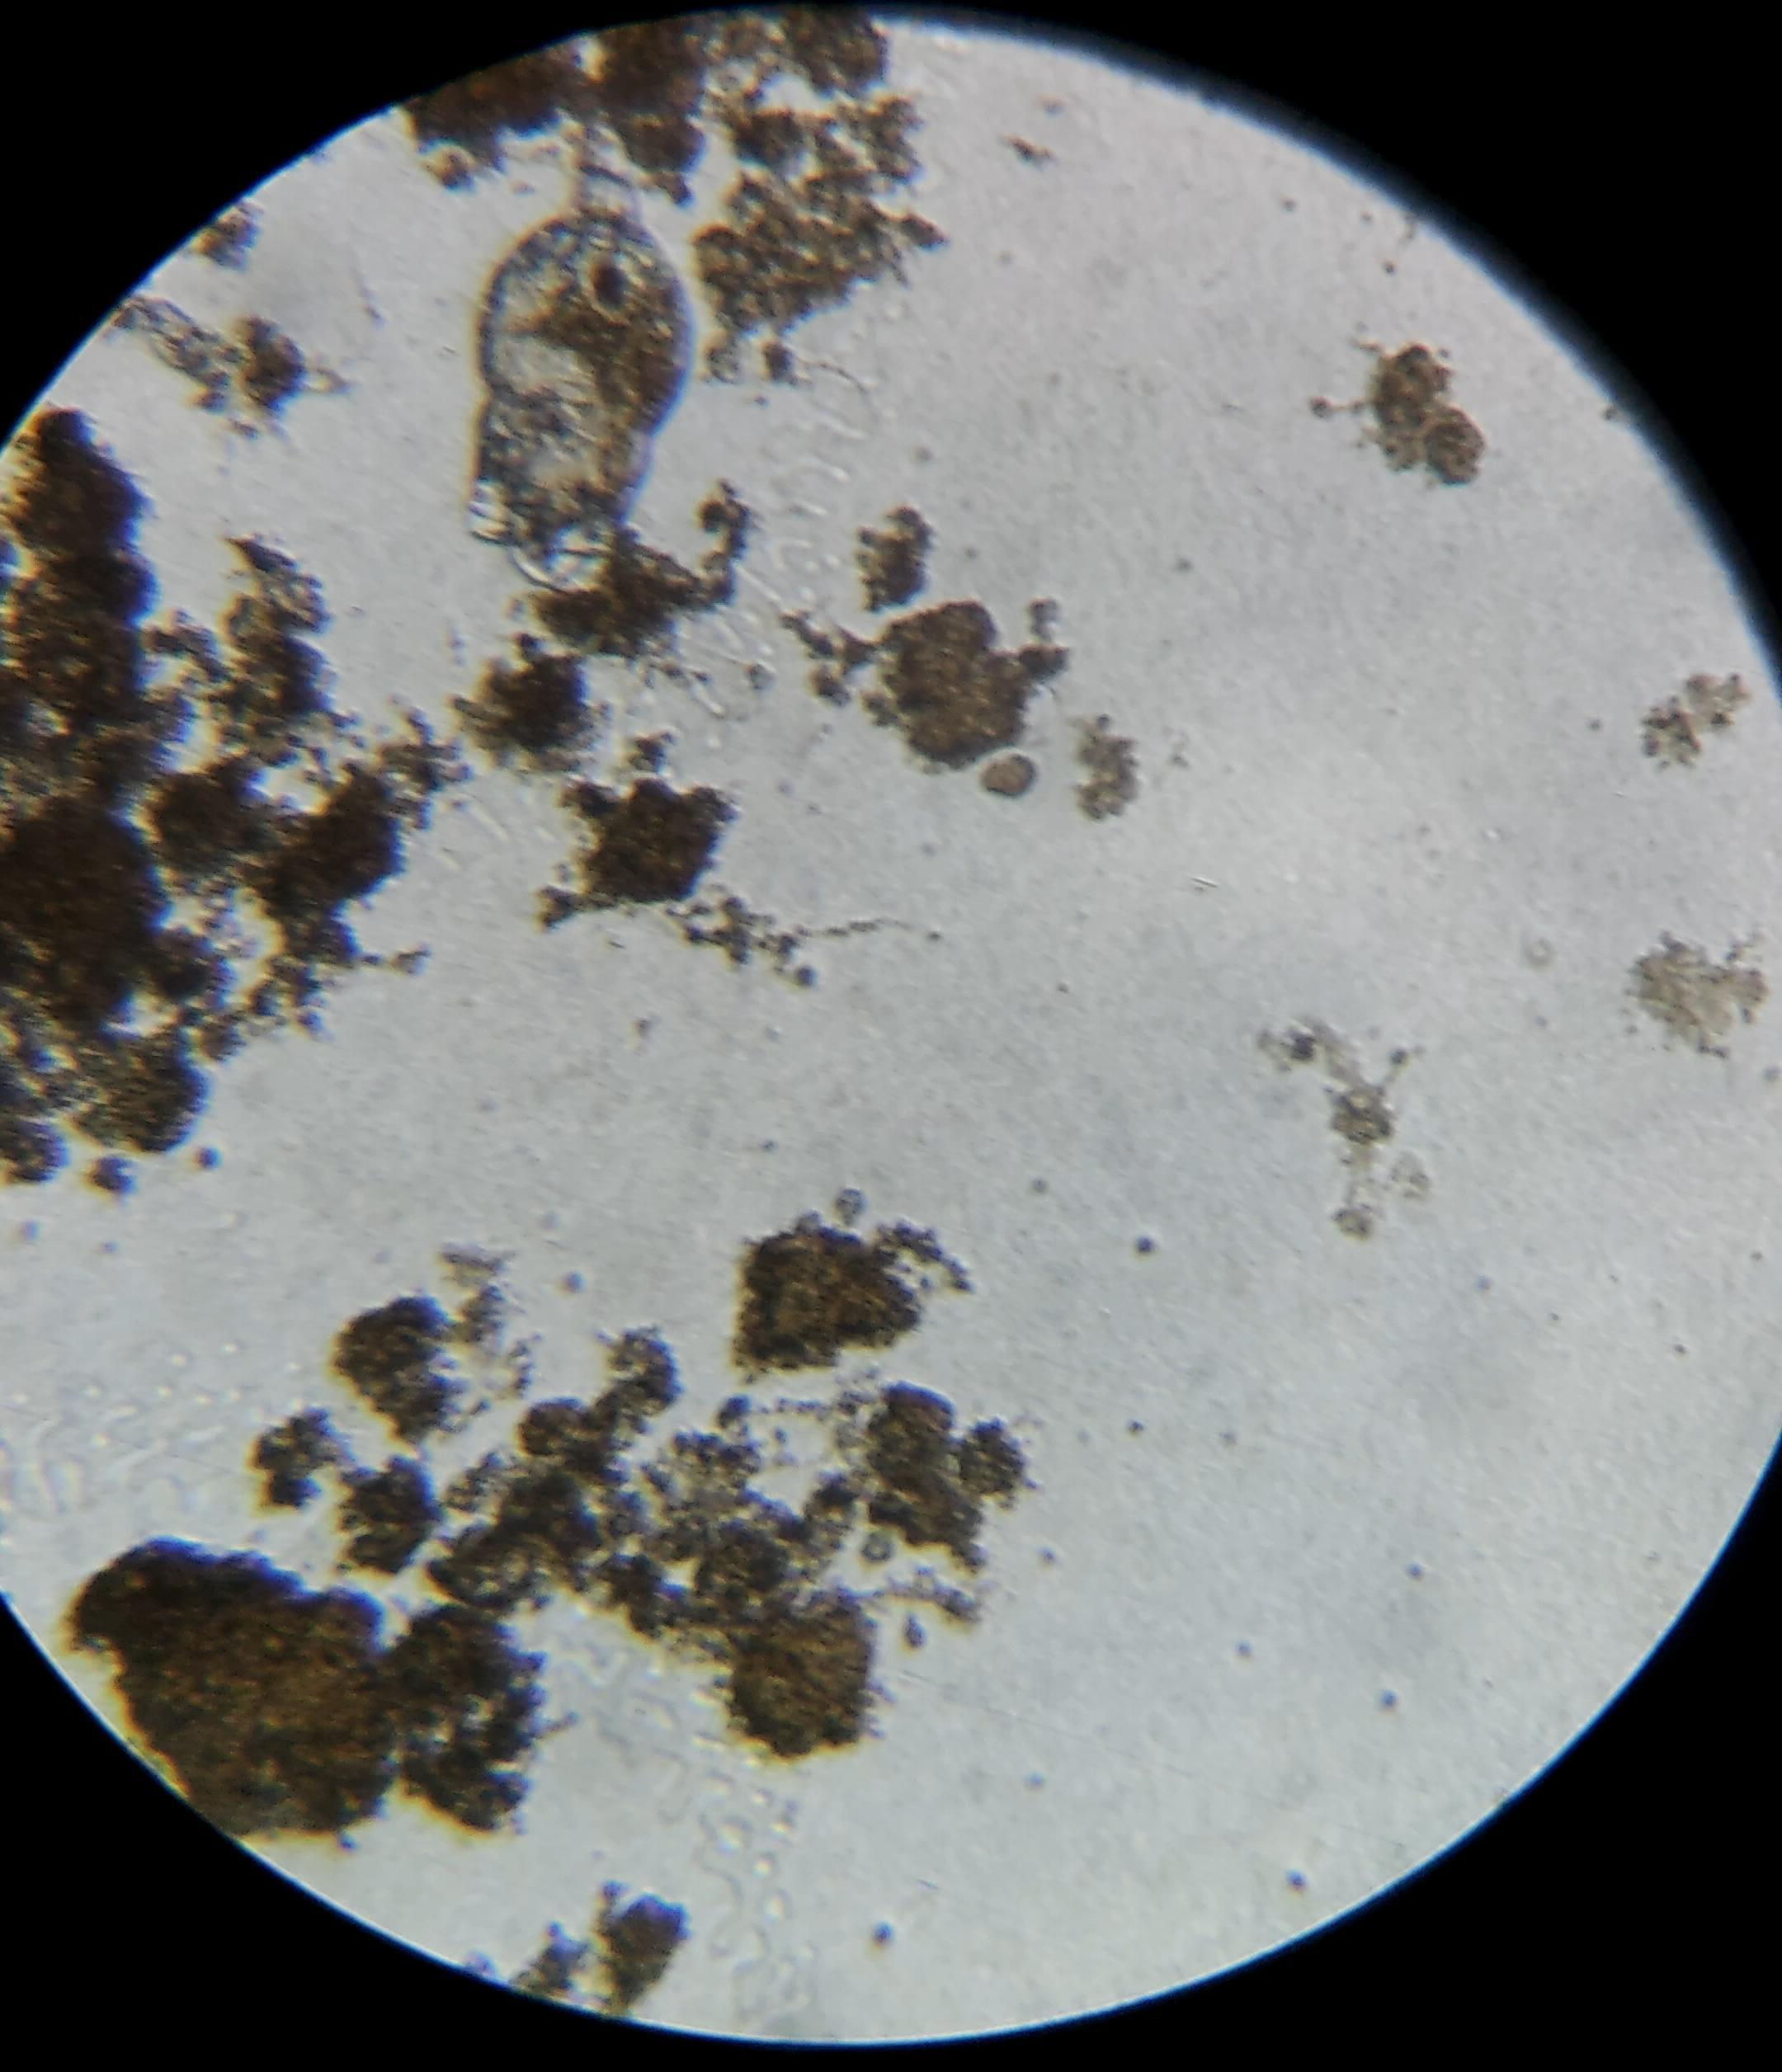Do: (464, 79, 689, 597)
